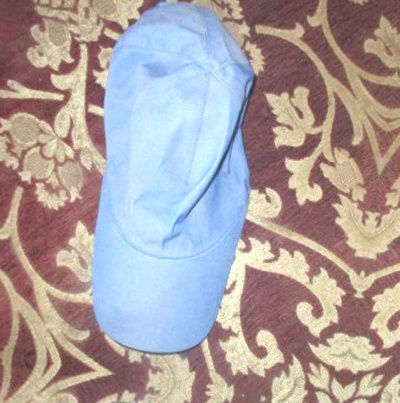Hat: (25, 0, 295, 364), (0, 388, 224, 403)
